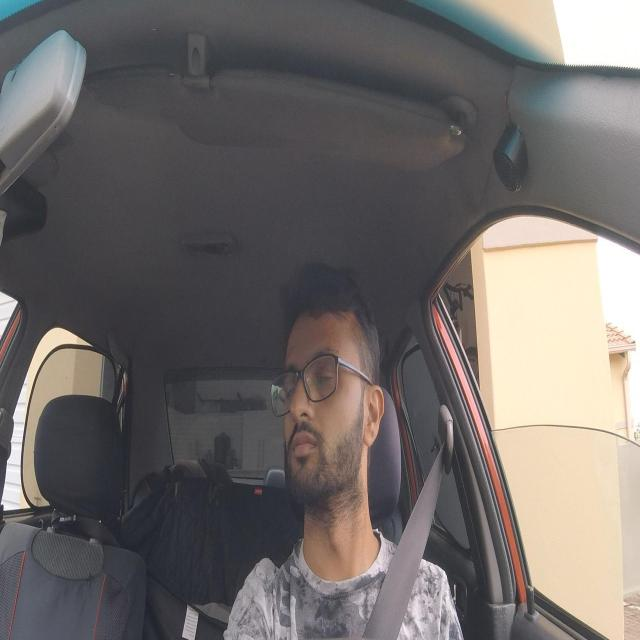close: (312, 345, 338, 393), (282, 361, 302, 405)
